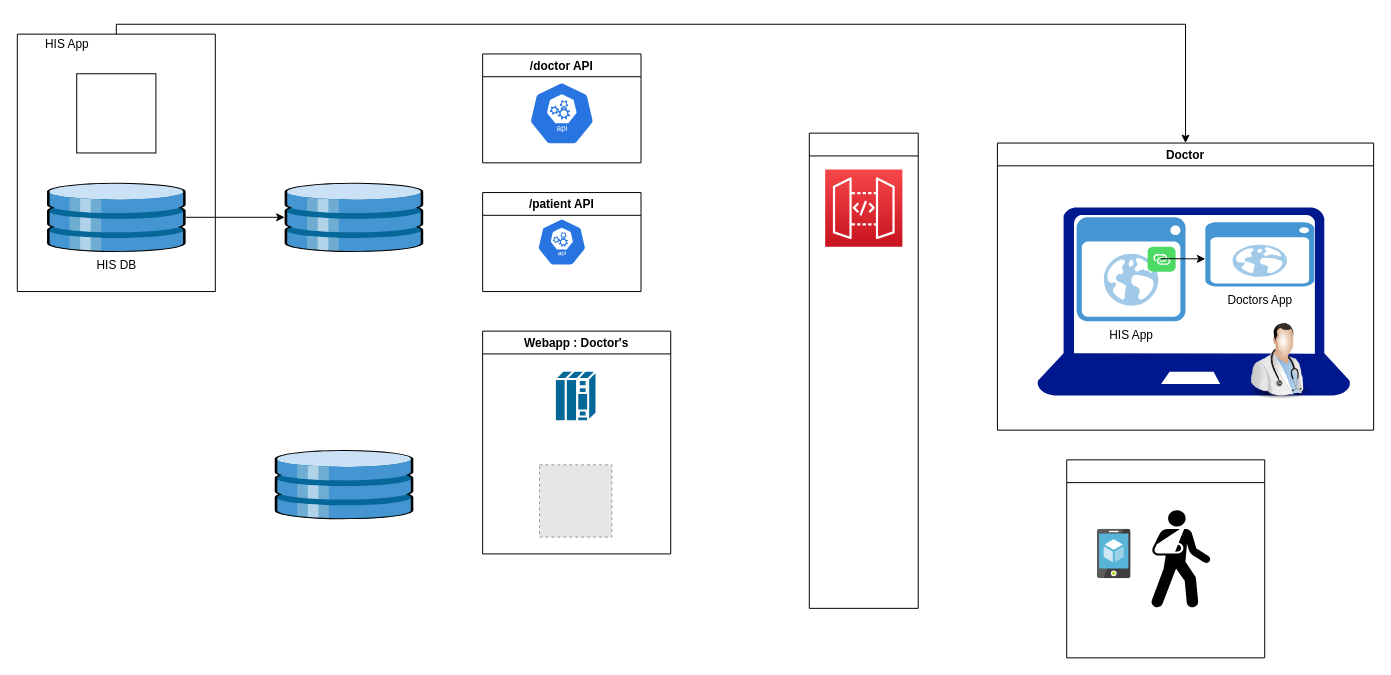
Image size: 1391x675. Some labels were removed from this diagram. Grey dashed boxes stand in for pictures. The box of each missing label's shape, as (x1, y1, x2, y2) in pixels:
API Gateway: (808, 132, 918, 608)
Front End App : HTML/js/css (we could use PWA): (553, 369, 597, 422)
HIS DB read replica: (284, 182, 423, 252)
Patient: (1066, 459, 1265, 658)
